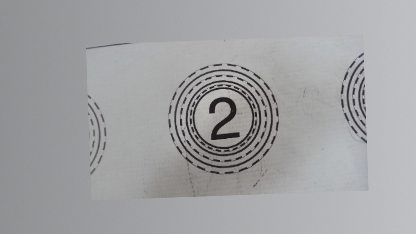2r: (164, 61, 282, 176)
